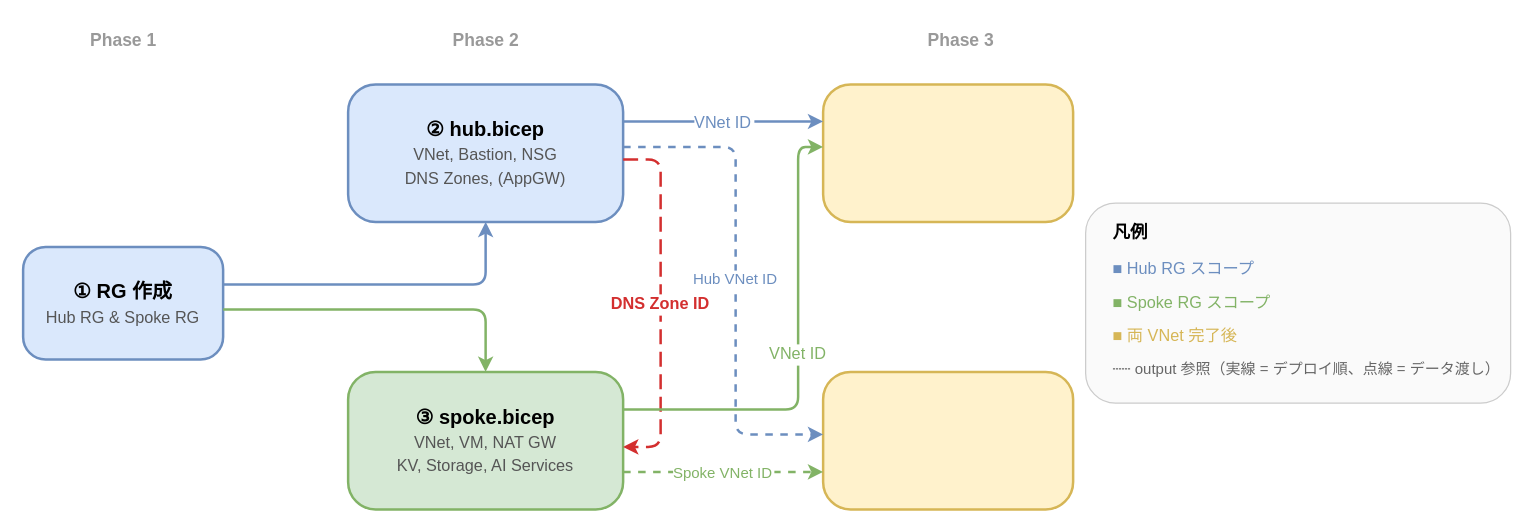
Some shapes in this 1533 by 531 pixel diagram are drawn without their labels. The box of each missing label's shape, as (x1, y1, x2, y2) in pixels:
④ peering.bicep Hub↔Spoke 双方向 VNet Peering: (821, 82, 1074, 222)
⑤ DNS Zone Spoke VNet リンク Hub DNS Zone に Spoke VNet をリンク: (821, 370, 1074, 510)
